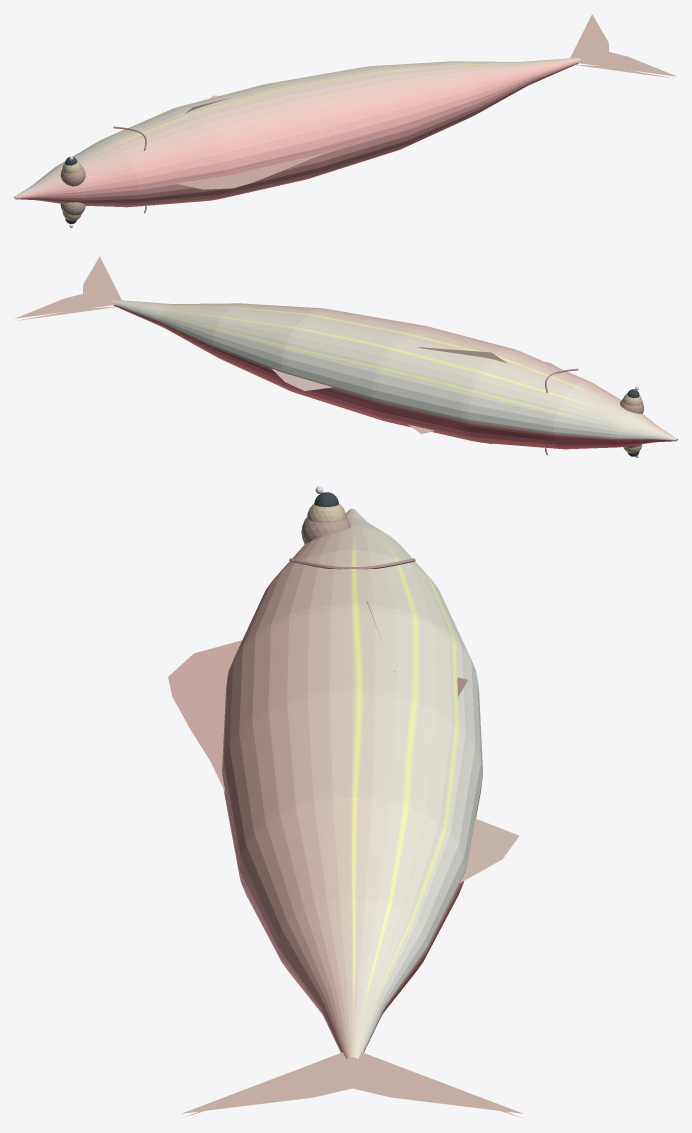
File: Ikan_Kerisi.glb
The picture shows the model from 3 angles, top to bottom: view 1: azimuth 30°, elevation 25°; view 2: azimuth 150°, elevation 25°; view 3: azimuth 270°, elevation 25°; orthographic projection. The views are drawn at different scales.
Visible parts, largest first — view 1: fish; view 2: fish; view 3: fish.
Part boxes in pixels (x1,y1,x2,y2): fish: (14, 14, 676, 227); fish: (15, 256, 677, 457); fish: (168, 486, 522, 1117).
Bounding box in the file's own units: 3.34 × 0.472 × 0.83.
Materials: 1 (1 with a texture image).
